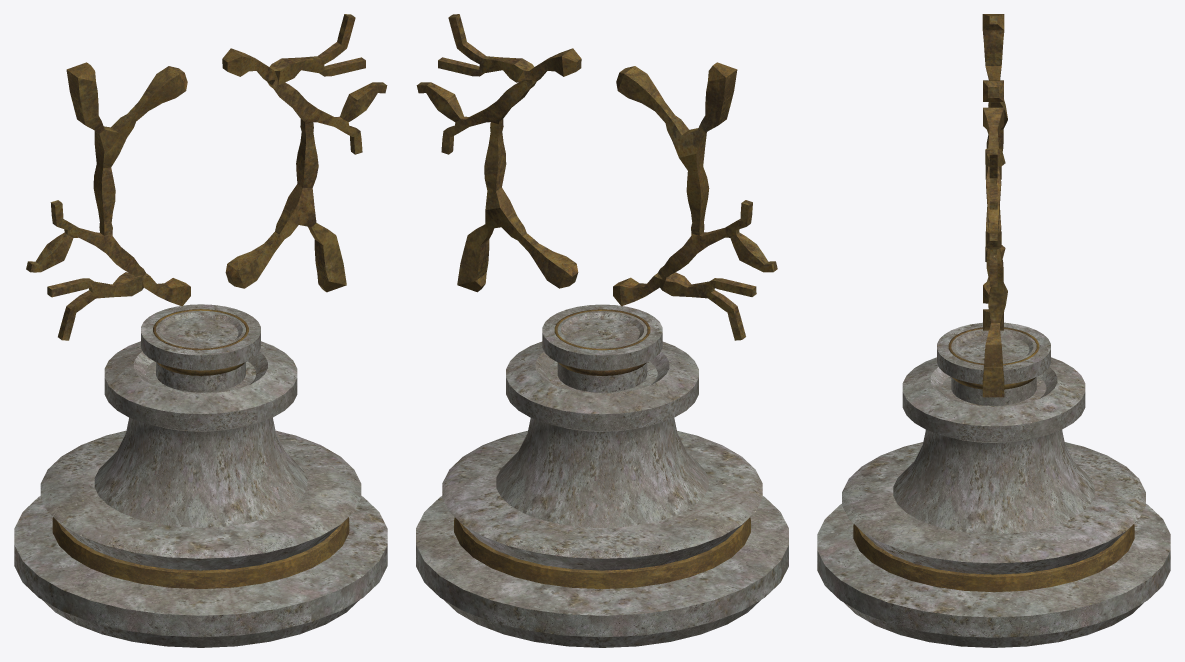
3 views of the same model, side by side, from view 1: azimuth 30°, elevation 25°; view 2: azimuth 150°, elevation 25°; view 3: azimuth 270°, elevation 25° (orthographic). The views are drawn at different scales.
Parts seen in each view (by area): view 1: mg_12_object_1; view 2: mg_12_object_1; view 3: mg_12_object_1.
Part boxes in pixels (box(x1,y1,x2,y2)): mg_12_object_1: box(14, 14, 387, 647); mg_12_object_1: box(416, 14, 788, 647); mg_12_object_1: box(817, 14, 1170, 647).
Bounding box in the file's own units: 129 × 187 × 117.
